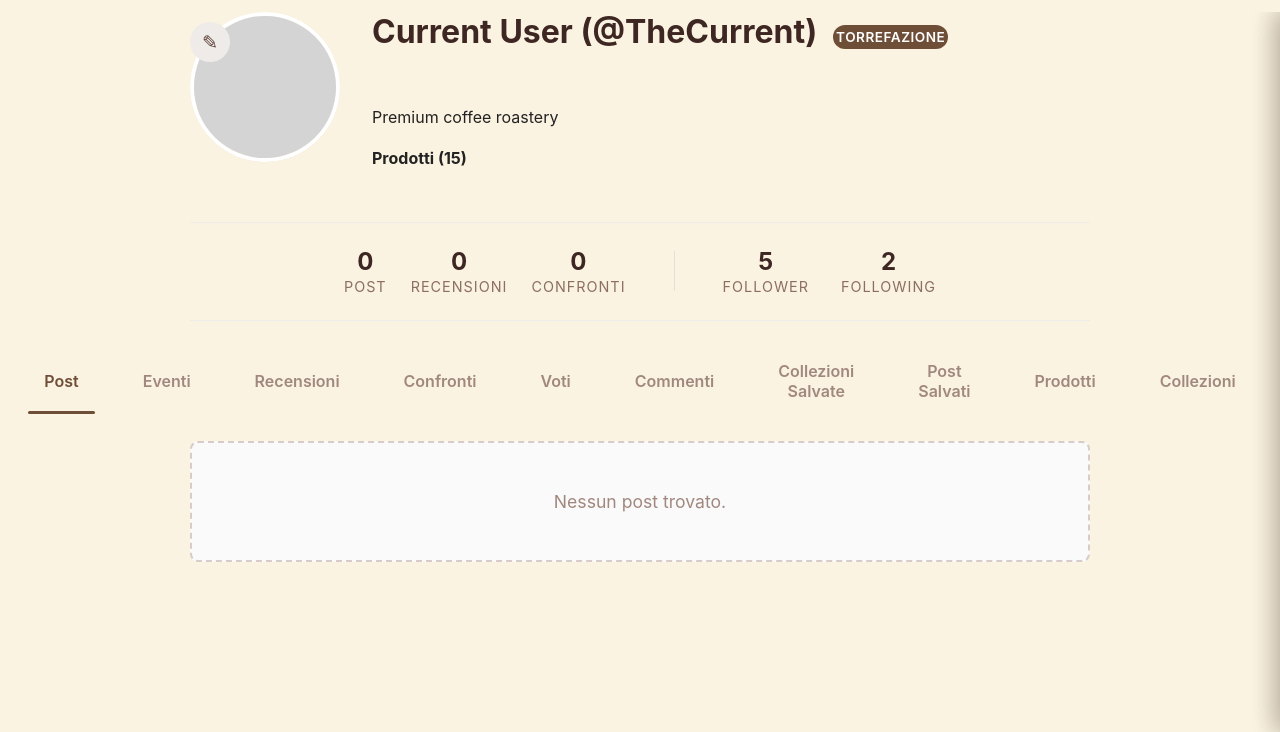
Test: Profile Page › Product Management (Torrefazione) › shows add product button for own Torrefazione profile
The width and height of the screenshot is (1280, 732).
What coordinates should you click on to do the following:
click the button "Prodotti"
I would click on:
 (1065, 380)
Its box is [1018,352,1112,408].
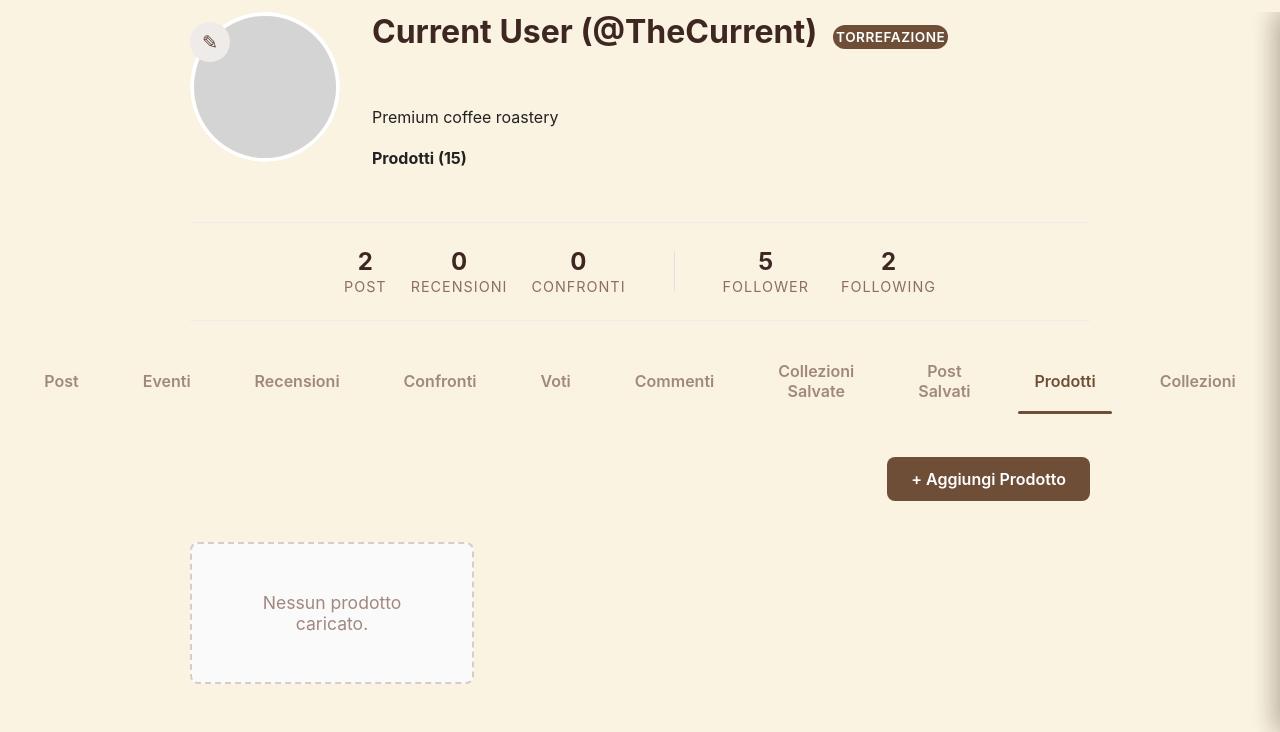
Check: the button "+ Aggiungi Prodotto" is shown, box [887,456,1090,500]
